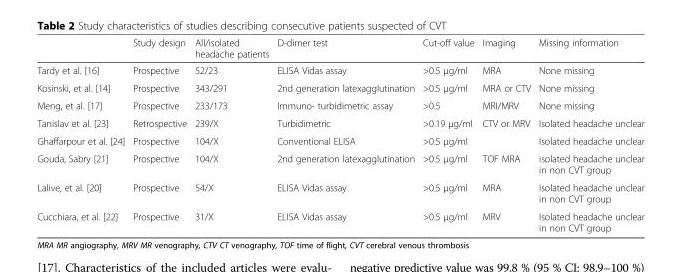table: (36, 36, 643, 233)
table column: (272, 36, 418, 233), (534, 36, 643, 233), (36, 36, 128, 233), (190, 36, 272, 233), (128, 36, 190, 233), (418, 36, 477, 233), (477, 36, 534, 233)
table column header: (36, 36, 643, 61)
table row: (36, 148, 643, 177), (36, 177, 643, 206), (36, 206, 643, 233), (36, 36, 643, 61), (36, 78, 643, 96), (36, 113, 643, 131), (36, 61, 643, 78), (36, 96, 643, 113), (36, 131, 643, 148)
